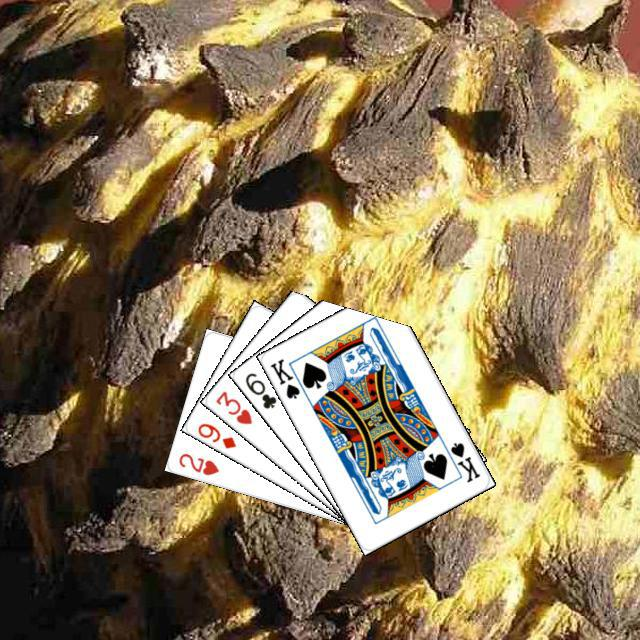2h: (174, 448, 220, 477)
3h: (211, 386, 254, 426)
6c: (240, 368, 278, 410)
9d: (193, 418, 238, 451)
Ks: (438, 437, 482, 484), (265, 353, 302, 401)
